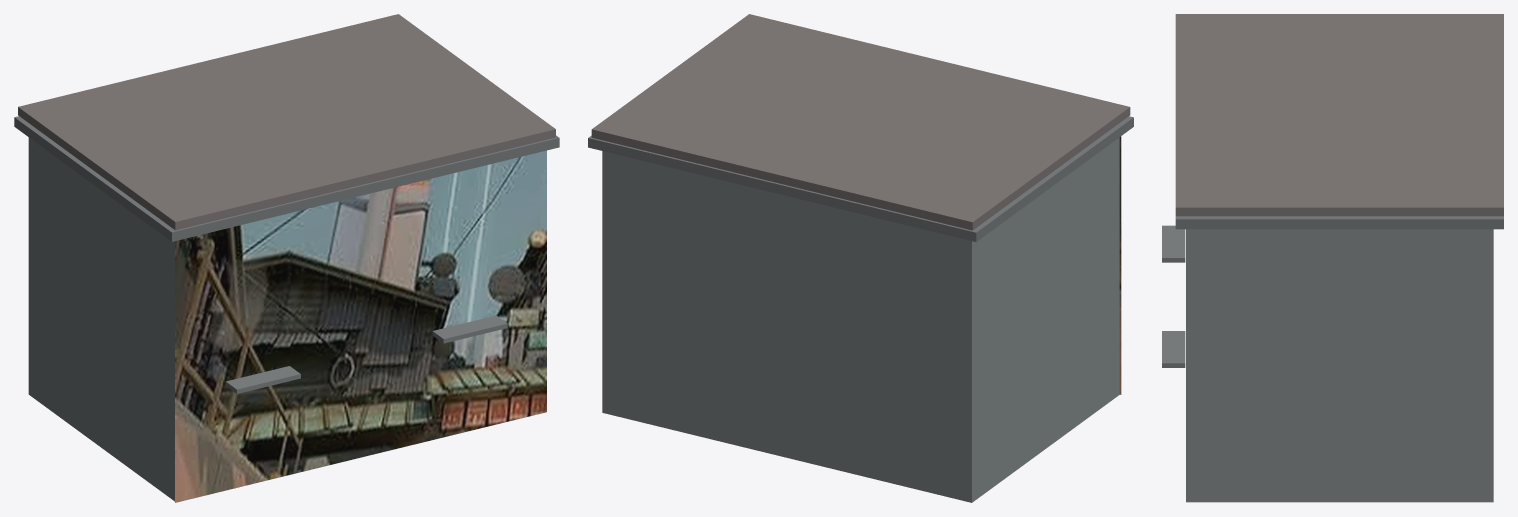
The model's file is corrugated_row.glb.
3 renders of one model, left to right at view 1: azimuth 30°, elevation 25°; view 2: azimuth 150°, elevation 25°; view 3: azimuth 270°, elevation 25°, orthographic. The views are drawn at different scales.
Parts seen in each view (by area): view 1: photographic_facade, metal_roof, shell, roof_parapet, ledge_1_3.6, ledge_1_-3.6; view 2: shell, metal_roof, roof_parapet, photographic_facade; view 3: shell, metal_roof, roof_parapet, ledge_1_3.6, ledge_1_-3.6.
Part boxes in pixels (x1,y1,x2,y2): photographic_facade: (175, 150, 546, 502); metal_roof: (18, 14, 555, 230); shell: (28, 137, 174, 501); roof_parapet: (14, 116, 559, 241); ledge_1_3.6: (432, 315, 507, 343); ledge_1_-3.6: (225, 366, 300, 393); shell: (602, 137, 1119, 502); metal_roof: (591, 14, 1130, 230); roof_parapet: (588, 116, 1133, 241); photographic_facade: (1119, 136, 1121, 394); shell: (1186, 229, 1493, 502); metal_roof: (1175, 14, 1503, 216); roof_parapet: (1175, 216, 1503, 229); ledge_1_3.6: (1162, 331, 1185, 367); ledge_1_-3.6: (1162, 225, 1185, 262).
Size of the model in its own units: 13.65 by 9.6 by 10.
1 material, 1 textured.
